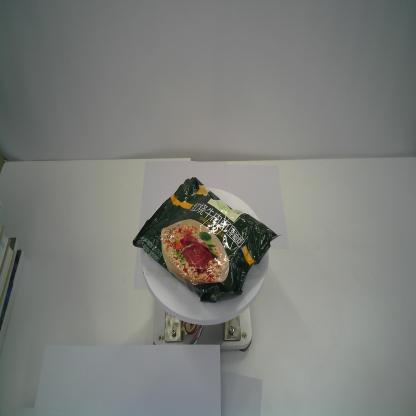Instant Noodles: (131, 173, 283, 305)
